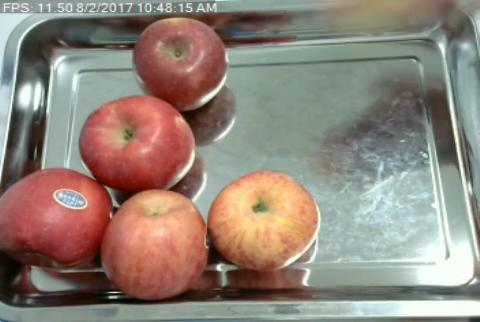apple: (98, 189, 208, 299), (78, 93, 197, 190), (207, 170, 318, 270), (0, 168, 109, 268), (132, 15, 228, 109)
